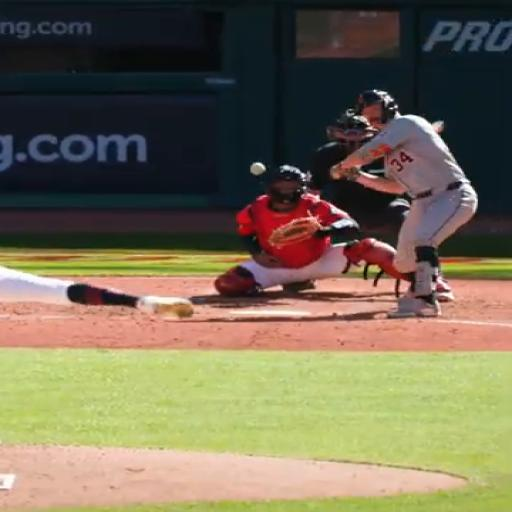bat: (434, 121, 442, 133)
